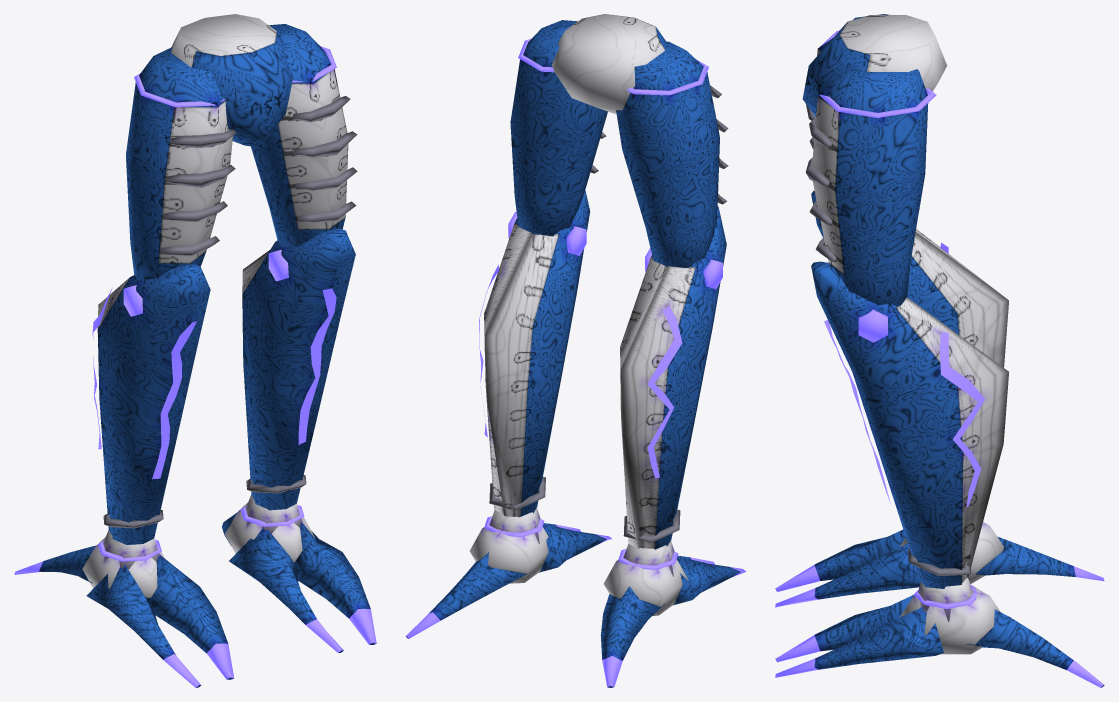
The model's file is BasicLegsZ.glb.
3 renders of one model, left to right at view 1: azimuth 30°, elevation 25°; view 2: azimuth 150°, elevation 25°; view 3: azimuth 270°, elevation 25°, orthographic. The views are drawn at different scales.
Parts seen in each view (by area): view 1: BasicLegsZ_ShinL, BasicLegsZ_ShinR, BasicLegsZ_ThighL, BasicLegsZ_ThighR, BasicLegsZ_FootL, BasicLegsZ_FootR, BasicLegsZ_Pelvis; view 2: BasicLegsZ_ShinR, BasicLegsZ_ShinL, BasicLegsZ_ThighL, BasicLegsZ_ThighR, BasicLegsZ_FootL, BasicLegsZ_FootR, BasicLegsZ_Pelvis; view 3: BasicLegsZ_ShinR, BasicLegsZ_ThighR, BasicLegsZ_FootR, BasicLegsZ_FootL, BasicLegsZ_ShinL, BasicLegsZ_Pelvis.
Part boxes in pixels (box(x1,y1,x2,y2)): BasicLegsZ_ShinL: box(92, 264, 210, 544); BasicLegsZ_ShinR: box(242, 228, 355, 510); BasicLegsZ_ThighL: box(126, 47, 236, 280); BasicLegsZ_ThighR: box(251, 24, 357, 247); BasicLegsZ_FootL: box(14, 530, 234, 687); BasicLegsZ_FootR: box(222, 495, 376, 652); BasicLegsZ_Pelvis: box(171, 14, 293, 147); BasicLegsZ_ShinR: box(479, 190, 590, 517); BasicLegsZ_ShinL: box(620, 206, 726, 549); BasicLegsZ_ThighL: box(616, 41, 728, 267); BasicLegsZ_ThighR: box(510, 20, 607, 236); BasicLegsZ_FootL: box(600, 540, 746, 687); BasicLegsZ_FootR: box(405, 507, 611, 638); BasicLegsZ_Pelvis: box(552, 14, 665, 114); BasicLegsZ_ShinR: box(811, 261, 1008, 588); BasicLegsZ_ThighR: box(805, 67, 936, 305); BasicLegsZ_FootR: box(775, 578, 1104, 687); BasicLegsZ_FootL: box(775, 522, 1104, 607); BasicLegsZ_ShinL: box(811, 190, 1008, 367); BasicLegsZ_Pelvis: box(802, 15, 947, 116).
Size of the model in its own units: 8.87 by 21.44 by 10.7.
Materials: 5 (4 with a texture image).
